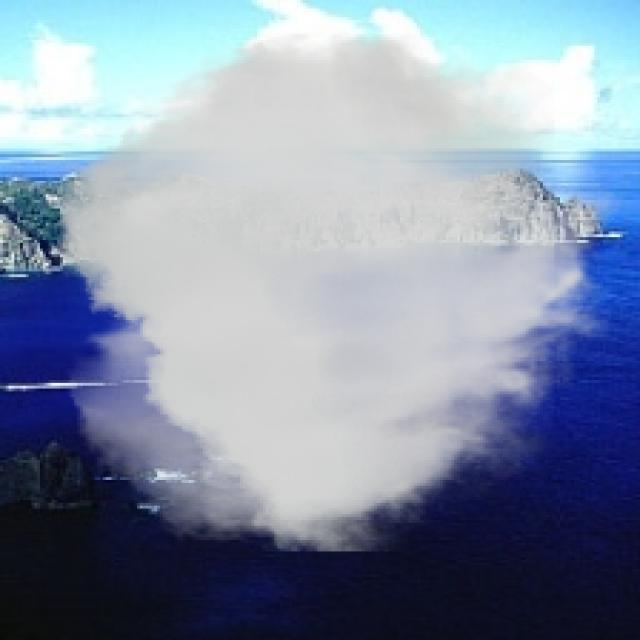smoke: (57, 26, 626, 551)
